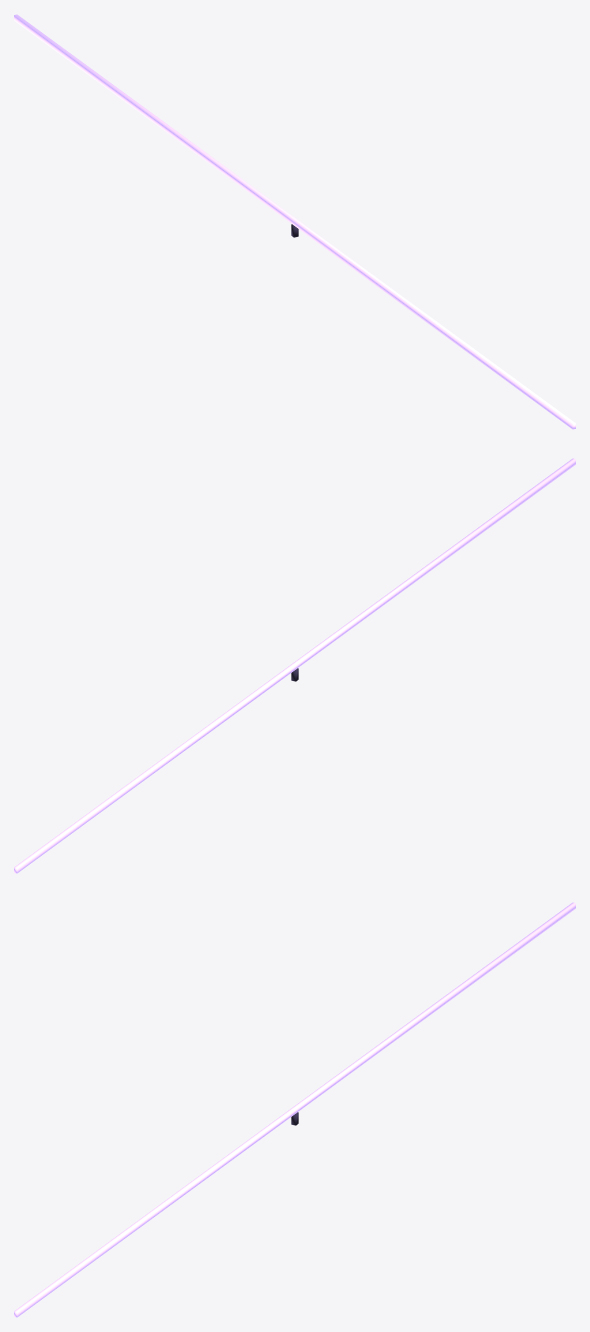
The model's file is TRK_EdgeRail_30m.glb.
3 views of the same model, one above another, from view 1: azimuth 30°, elevation 25°; view 2: azimuth 150°, elevation 25°; view 3: azimuth 330°, elevation 25° (orthographic).
Parts seen in each view (by area): view 1: rail; view 2: rail; view 3: rail.
Part boxes in pixels (x1,y1,x2,y2): rail: [14, 14, 575, 429]; rail: [14, 458, 575, 873]; rail: [14, 902, 575, 1317].
Bounding box in the file's own units: 0.14 × 0.5 × 30.
